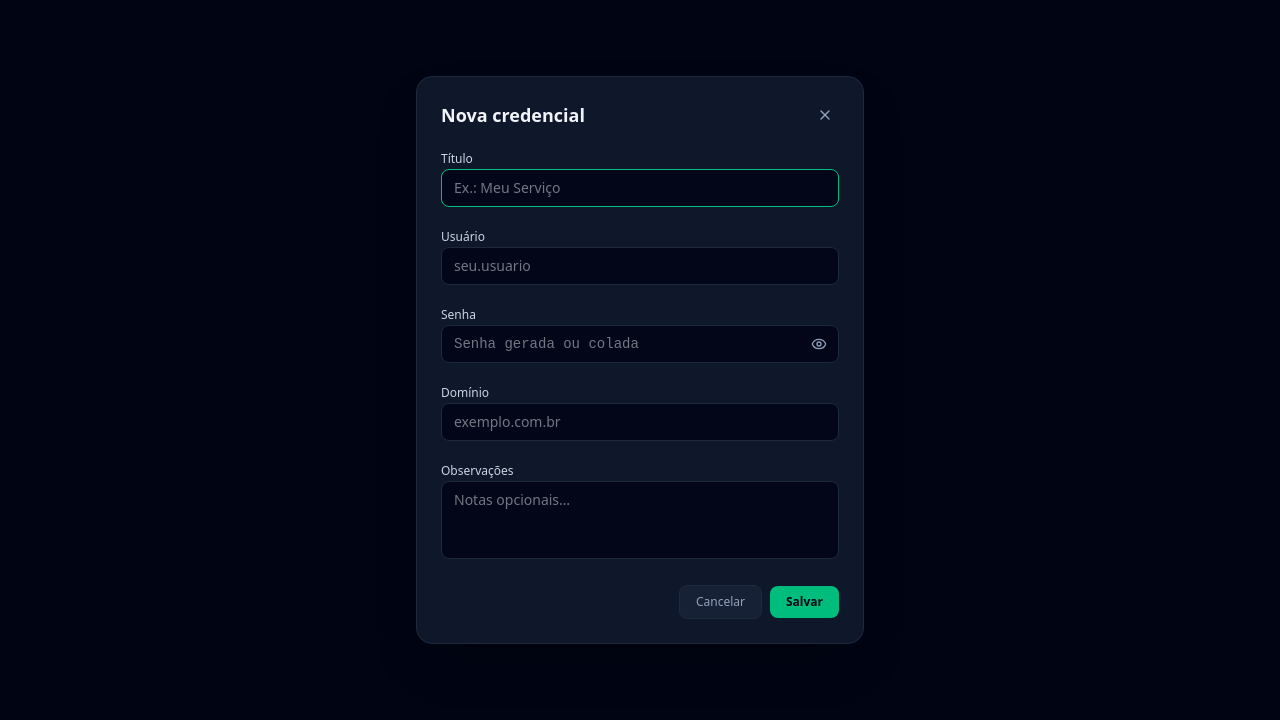
EntryModal: criação › usa a mensagem padrão quando a rejeição não traz texto
In the field labelled "Título": (640, 188) [441,169,839,207], type "Banco"
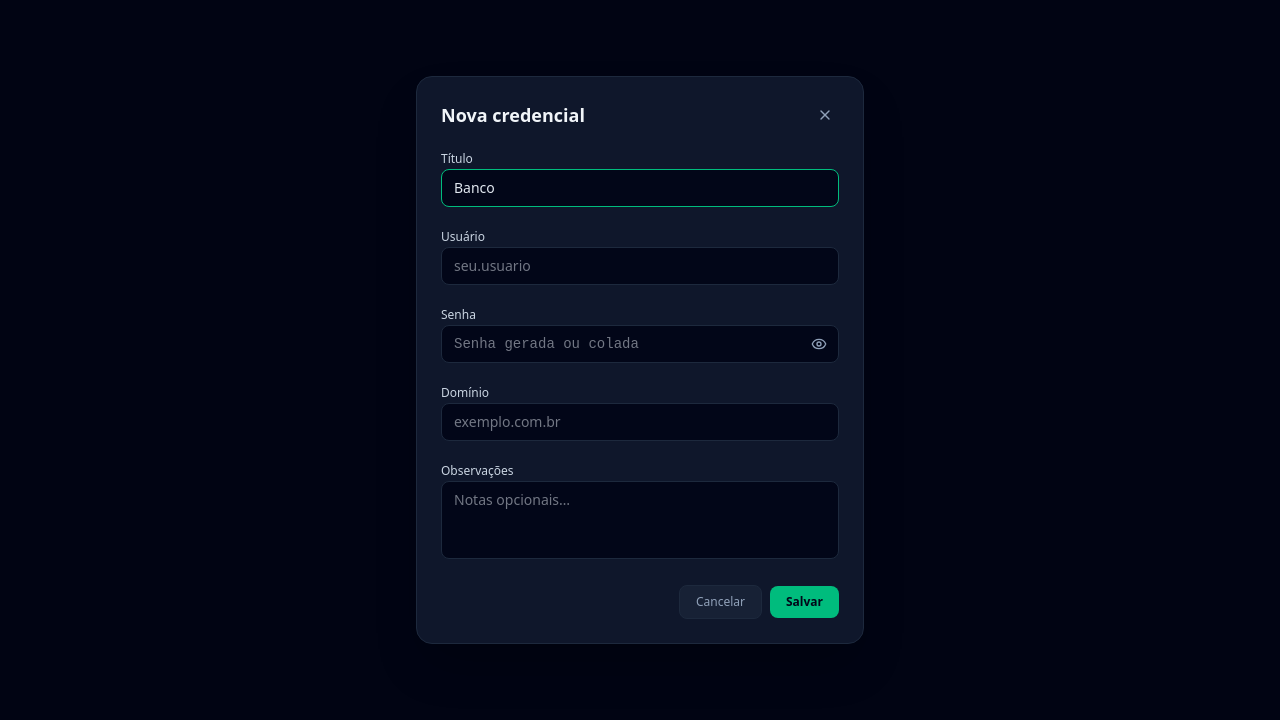
Click the button "Salvar": (804, 602) [770,586,839,618]
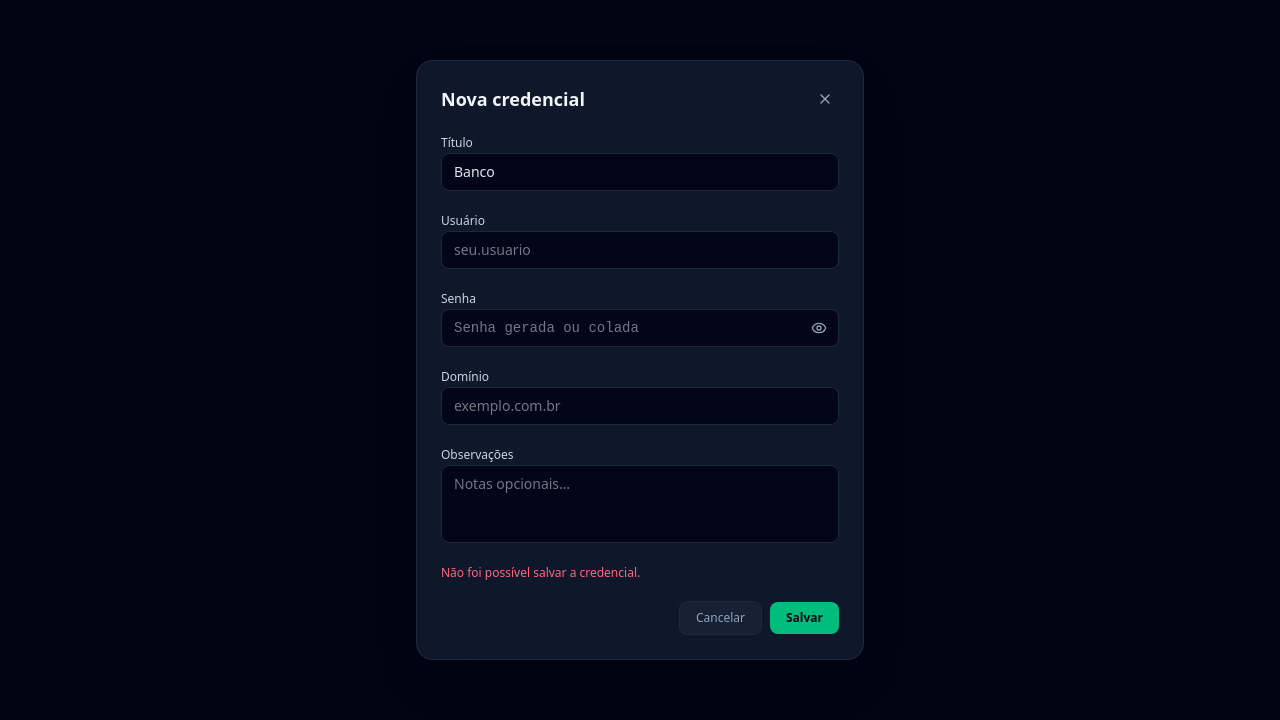
Expected: the text "Não foi possível salvar a credencial." is shown, [441,564,640,581]
